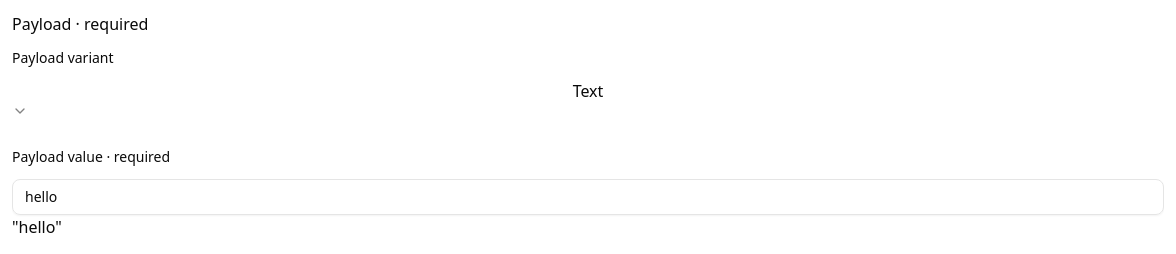
switches oneOf variants and seeds their declared defaults
Press ArrowDown in the dropdown named "Payload variant", box [12,79,1164,119]
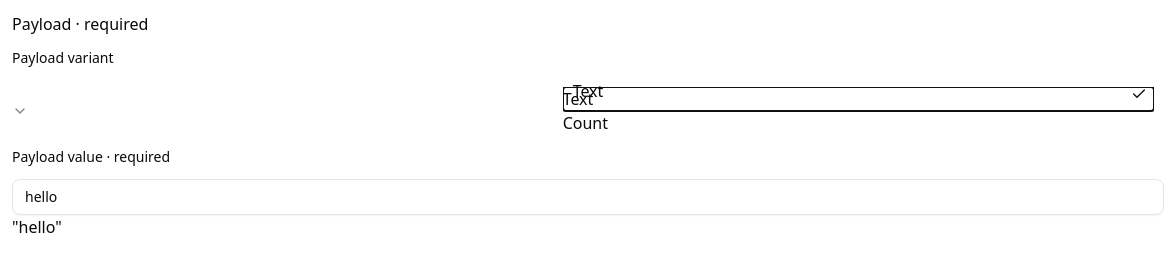
Click the option "Count" at (585, 123), box [563,112,608,134]
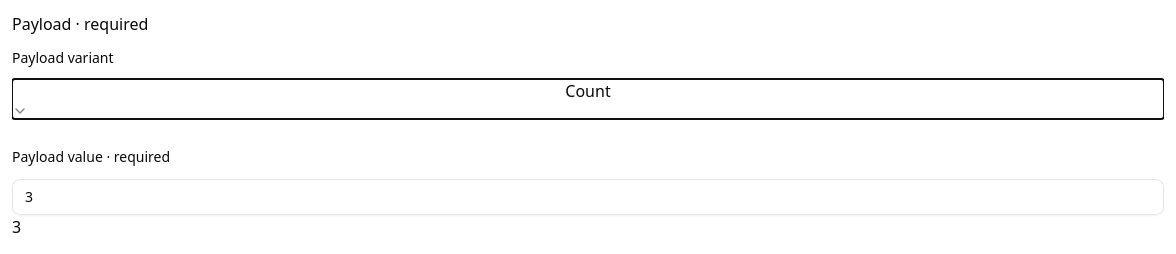
expect the number field labelled "Payload value · required" holds "3": met, box [12,178,1164,214]
expect the text with test id "value" reads "3": met, box [12,216,21,238]
